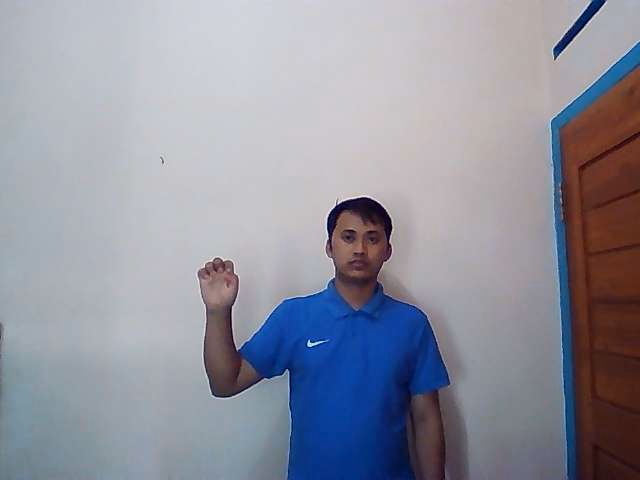E: (196, 256, 240, 310)
